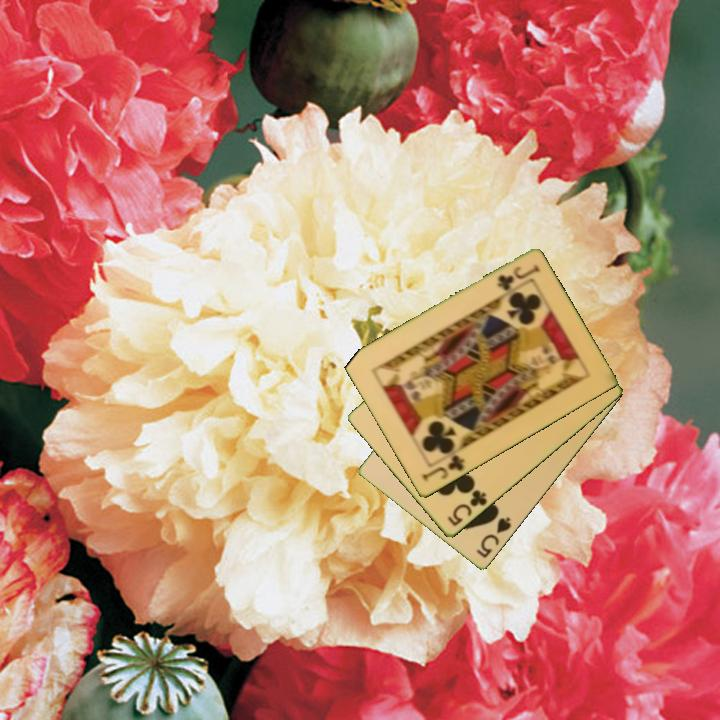5c: (444, 487, 490, 530)
5s: (472, 514, 514, 562)
Jc: (493, 261, 542, 294), (419, 452, 468, 484)
